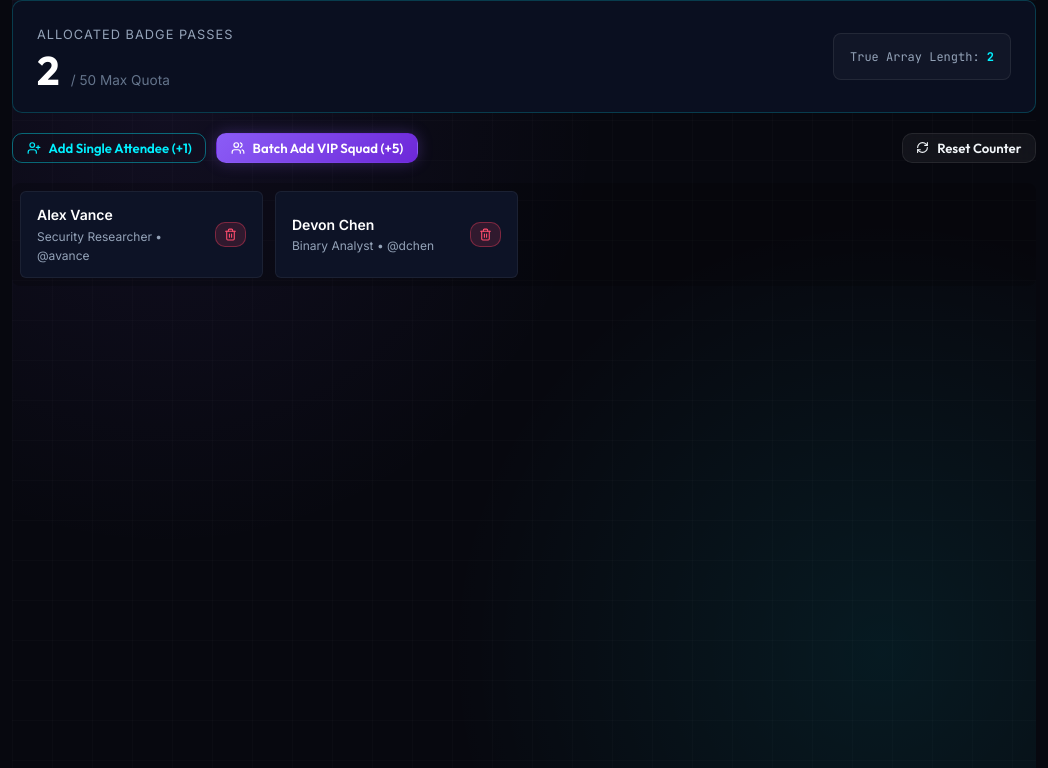
Test: BUG ARENA Frontend Integration & Challenge Tests › Challenge 2: Phantom Counter simulation › reproduces count desync on batch addition
Step 1. Click the button "Batch Add VIP Squad (+5)" → (317, 148), box 216,132 -> 418,163
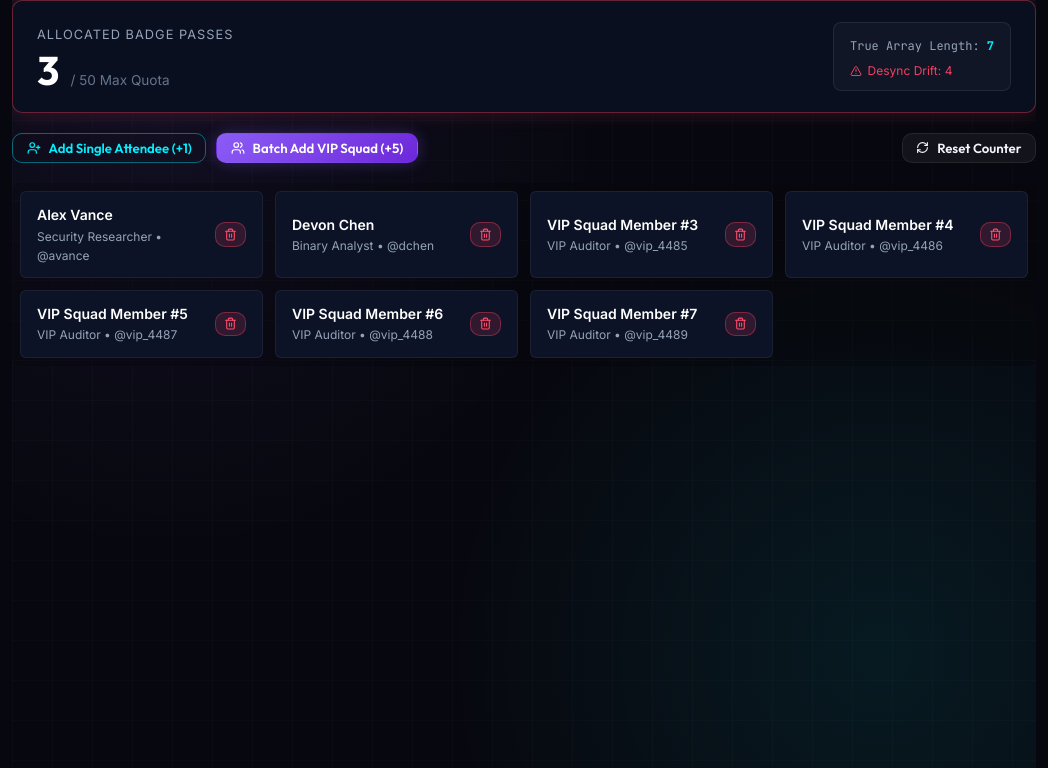
expect the text "Desync Drift: 4" is shown: met, box 850,63 -> 952,78
